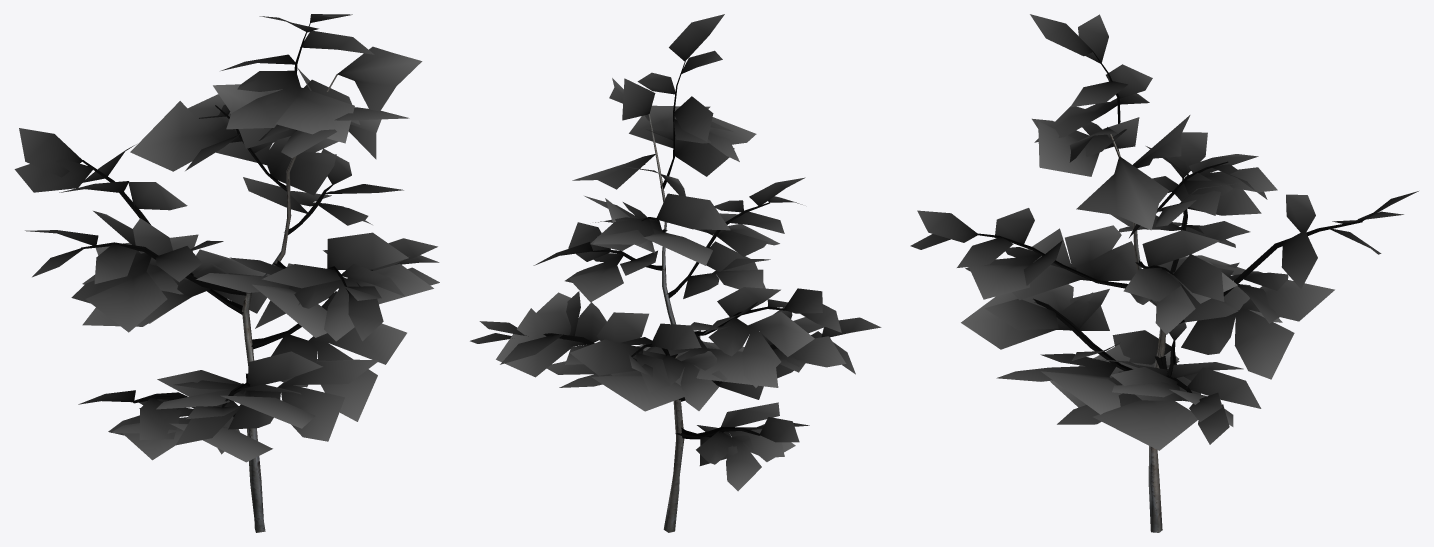
File: beech_tree_00_B.FBX
3 renders of one model, left to right at view 1: azimuth 30°, elevation 25°; view 2: azimuth 150°, elevation 25°; view 3: azimuth 270°, elevation 25°, orthographic. The views are drawn at different scales.
Parts seen in each view (by area): view 1: beech_tree_00_B_LOD0; view 2: beech_tree_00_B_LOD0; view 3: beech_tree_00_B_LOD0.
Boxes of the visible parts, x1,y1,x2,y2 form: beech_tree_00_B_LOD0: (14,14,439,532); beech_tree_00_B_LOD0: (470,14,881,532); beech_tree_00_B_LOD0: (910,14,1418,532).
Size of what is drawn, in the model's own units: 3111 by 3934 by 3502.
